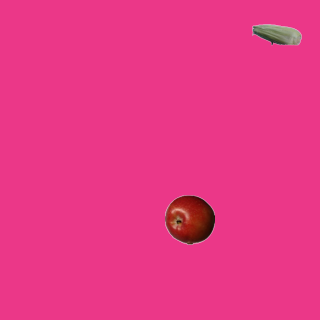Apple Braeburn: (164, 194, 214, 244)
Corn Husk: (251, 9, 301, 59)
